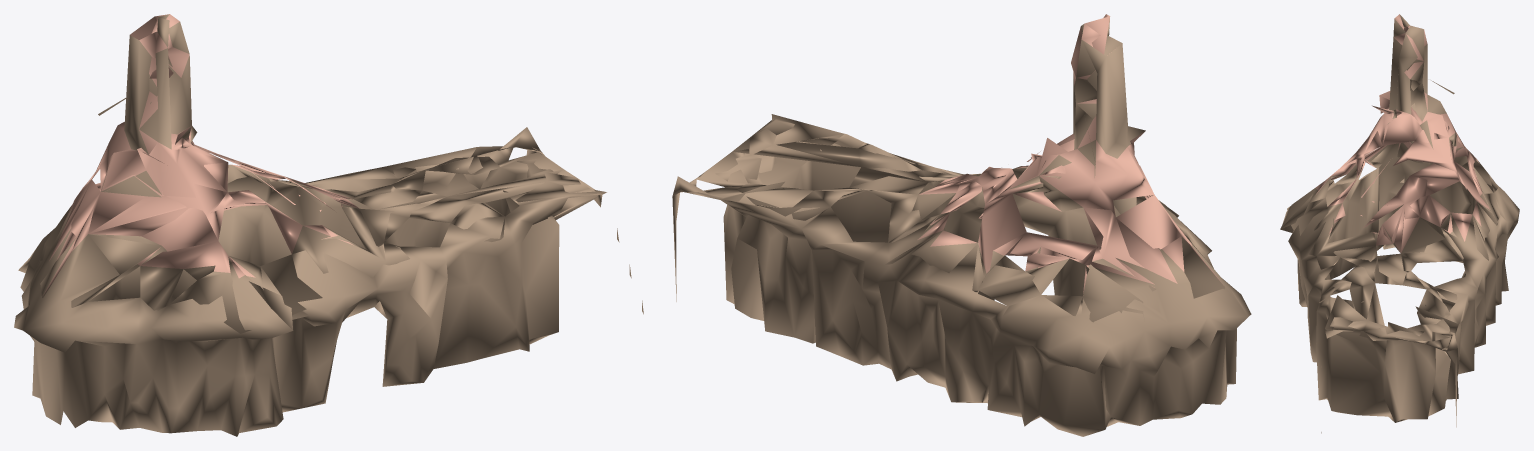
Rendered from carpa_b.glb.
3 renders of one model, left to right at view 1: azimuth 30°, elevation 25°; view 2: azimuth 150°, elevation 25°; view 3: azimuth 270°, elevation 25°, orthographic. The views are drawn at different scales.
Visible parts, largest first — view 1: carpa_b; view 2: carpa_b; view 3: carpa_b.
Part boxes in pixels (left/top/right/bottom): carpa_b: left=14, top=14, right=643, bottom=436; carpa_b: left=672, top=14, right=1251, bottom=436; carpa_b: left=1280, top=14, right=1519, bottom=433.
Size of the model in its own units: 16.22 by 10.2 by 8.02.
